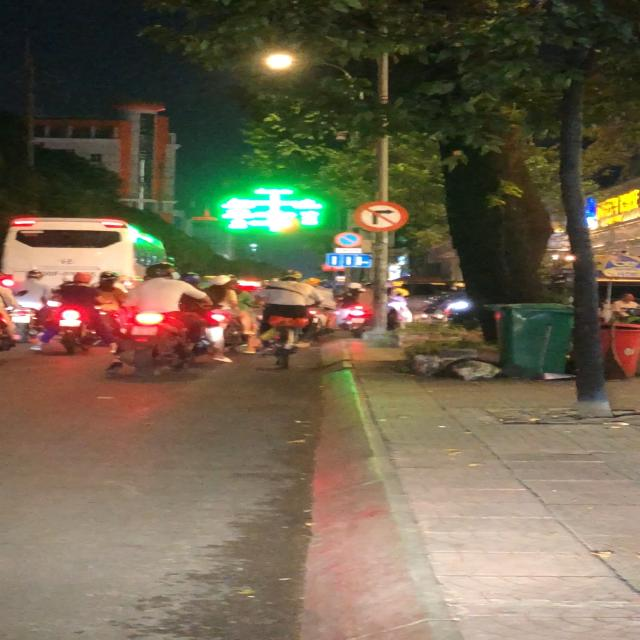Bien bao cam do xe: (334, 231, 363, 248)
Bien bao cam re phai: (354, 200, 409, 233)
